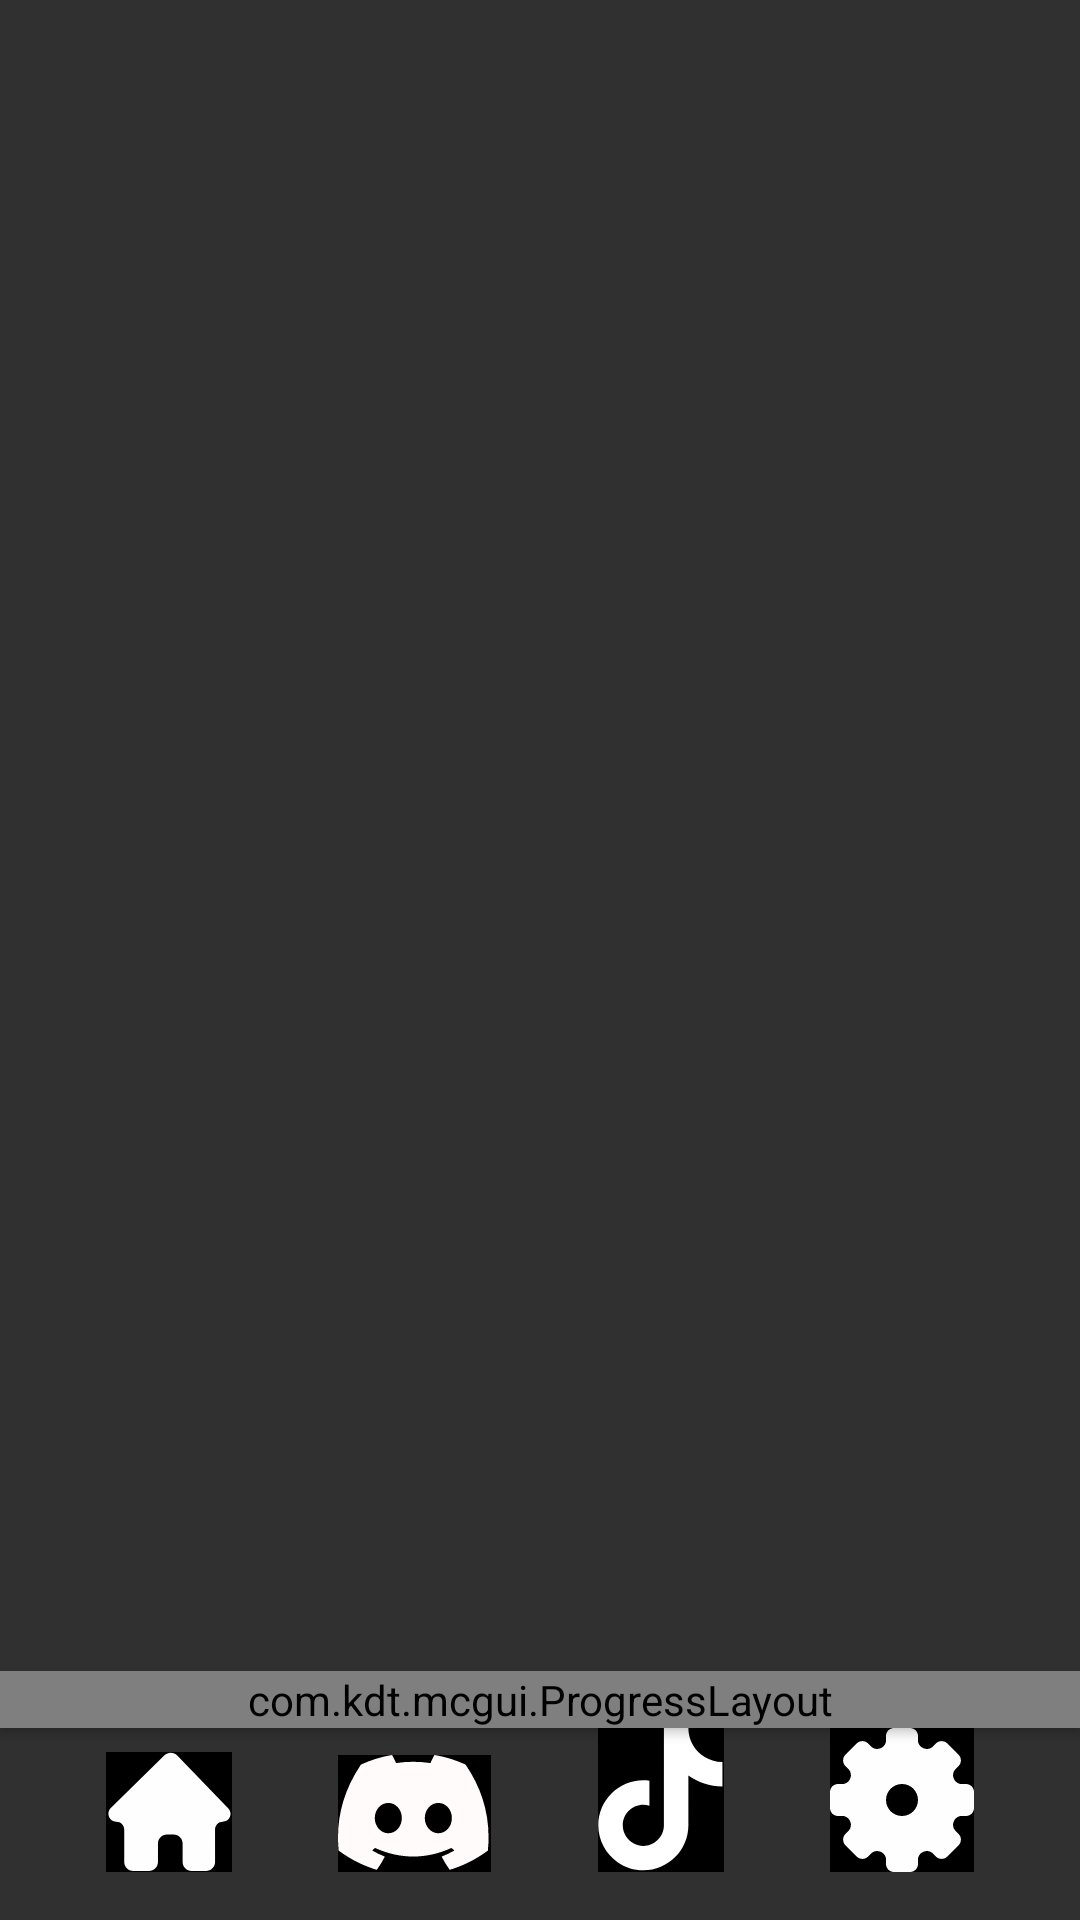

Named icons in this screenshot (1080 × 1920) and their centers, (x,y):
pixelmon official site: (169,1812)
pixelmon settings: (902,1800)
